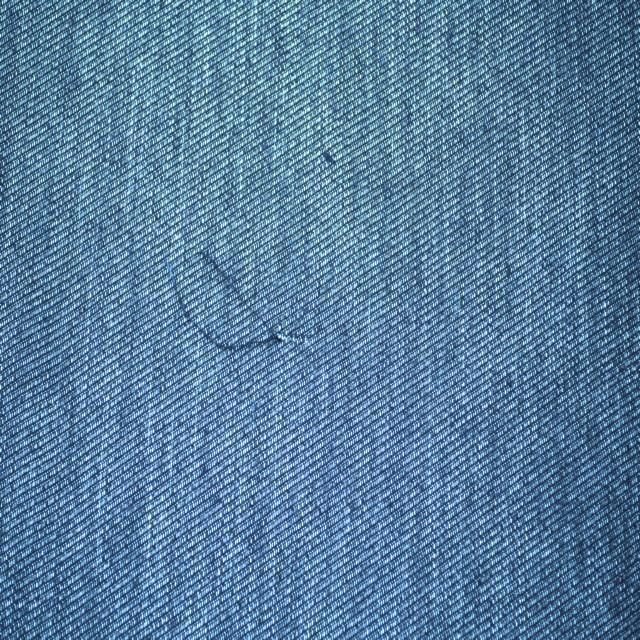defect: (159, 230, 285, 370)
